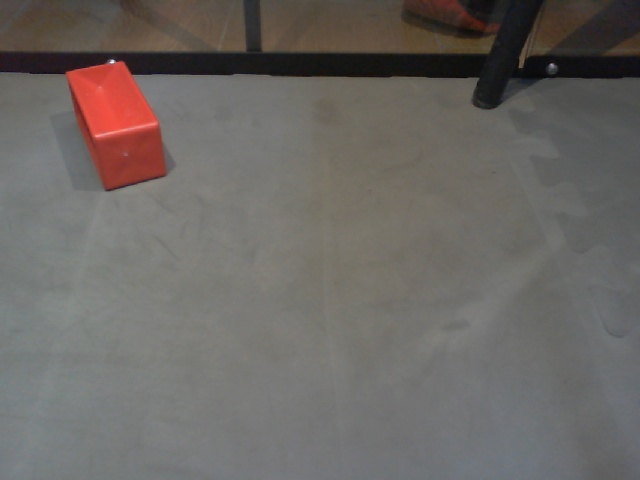RedSample: (64, 60, 169, 194)
